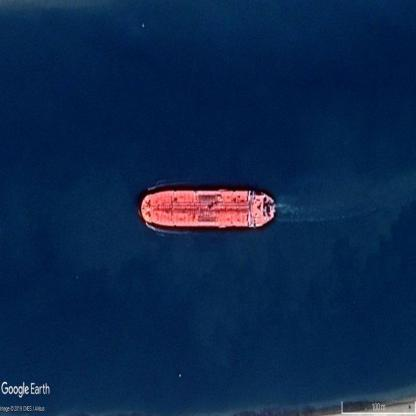ship: (141, 189, 275, 229)
